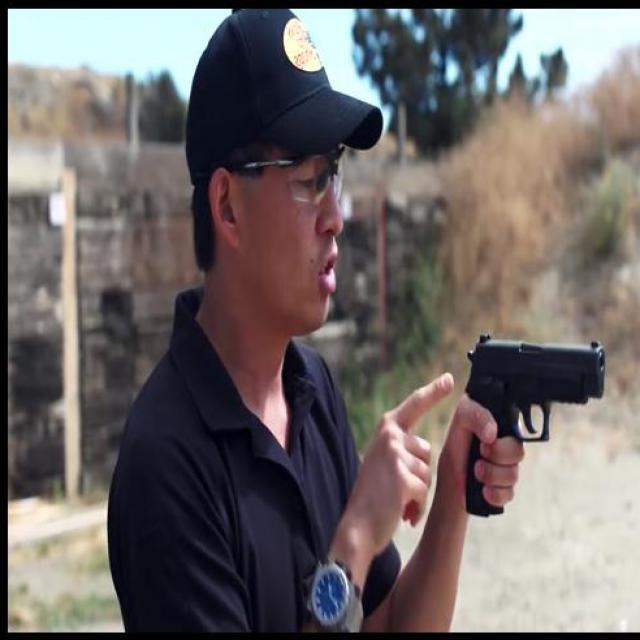Gun: (458, 330, 606, 518)
